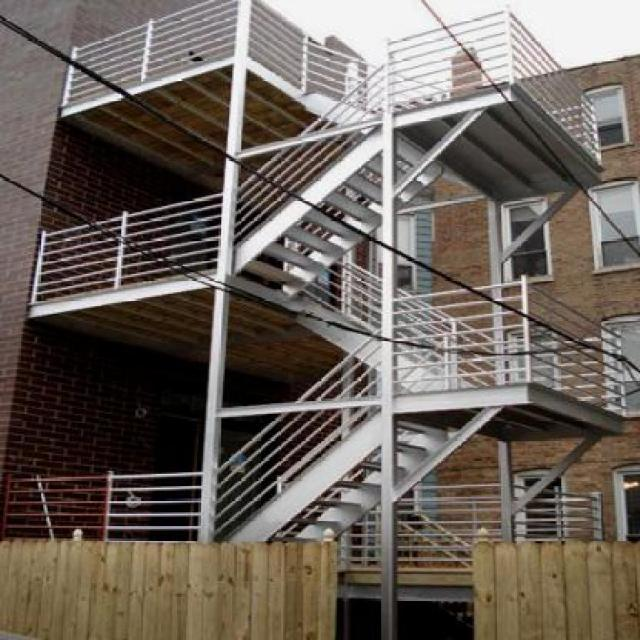stair: (171, 41, 560, 296), (204, 320, 458, 546)
